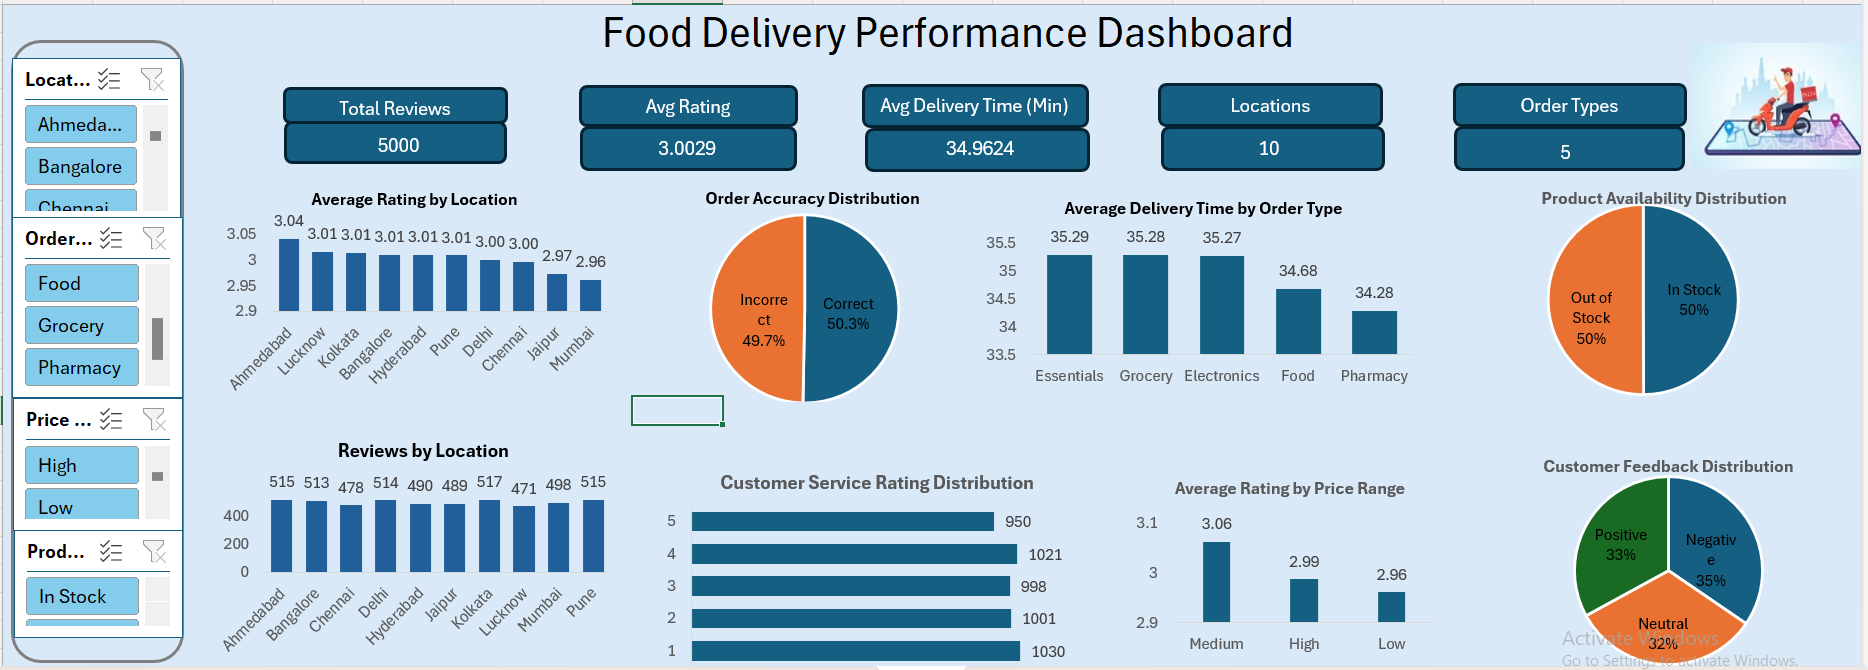

The page's visual inventory and layout, read from the dashboard file:
{"tool":"powerbi","page":{"name":"Page 1","canvas":[1280,720],"ordinal":0},"visuals":[{"type":"cardVisual","title":"Average Rating","fields":{"Data":["Avg(Fast Delivery Agent Reviews.Rating)"]},"box":[276.2,53.5,198.4,88.5],"z":0},{"type":"cardVisual","title":"Average Delivery Time","fields":{"Data":["Avg(Fast Delivery Agent Reviews.Delivery Time (min))"]},"box":[514.5,53.5,294.7,88.5],"z":1000},{"type":"cardVisual","title":"Average Customer Service Rating","fields":{"Data":["Avg(Fast Delivery Agent Reviews.Customer Service Rating)"]},"box":[849.1,53.5,334.6,88.5],"z":2000},{"type":"cardVisual","title":"Order Accuracy %","fields":{"Data":["Fast Delivery Agent Reviews.Order Accuracy %"]},"box":[8.8,148.8,227.6,88.5],"z":3000},{"type":"textbox","box":[0,0,1280,48],"z":4000},{"type":"cardVisual","title":"Negative Feedback %","fields":{"Data":["Fast Delivery Agent Reviews.Negative Feedback %"]},"box":[375.9,148.8,232.5,88.5],"z":5000},{"type":"cardVisual","title":"Out of Stock %","fields":{"Data":["Fast Delivery Agent Reviews.Out of Stock %"]},"box":[748,153.7,246.1,88.5],"z":6000},{"type":"hundredPercentStackedBarChart","fields":{"Category":["Fast Delivery Agent Reviews.Location"],"Y":["Avg(Fast Delivery Agent Reviews.Rating)"]},"box":[9.4,482.6,270.5,220.1],"z":7000},{"type":"barChart","fields":{"Category":["Fast Delivery Agent Reviews.Location"],"Y":["Avg(Fast Delivery Agent Reviews.Delivery Time (min))"]},"box":[9.4,242.2,243.2,234.4],"z":8000},{"type":"donutChart","fields":{"Category":["Fast Delivery Agent Reviews.Customer Feedback Type"],"Y":["CountNonNull(Fast Delivery Agent Reviews.Review Text)"]},"box":[281,242.4,299.9,224.4],"z":9000},{"type":"lineClusteredColumnComboChart","title":"Order Accuracy — Correct vs Incorrect","fields":{"Category":["Fast Delivery Agent Reviews.Order Accuracy"],"Y":["CountNonNull(Fast Delivery Agent Reviews.Review Text)"]},"box":[326.8,482.1,267.5,220.8],"z":10000},{"type":"clusteredBarChart","fields":{"Category":["Fast Delivery Agent Reviews.Location"],"Y":["CountNonNull(Fast Delivery Agent Reviews.Review Text)"]},"box":[648.2,248.7,345.6,218.2],"z":11000},{"type":"cardVisual","fields":{"Data":["CountNonNull(Fast Delivery Agent Reviews.Review Text)"]},"box":[8.8,53.5,227.6,88.5],"z":12000},{"type":"slicer","fields":{"Values":["Fast Delivery Agent Reviews.Location"]},"box":[1082.7,277.4,184,60.1],"z":13000},{"type":"slicer","fields":{"Values":["Fast Delivery Agent Reviews.Order Type"]},"box":[1082.7,218.2,184,59.3],"z":14000},{"type":"slicer","fields":{"Values":["Fast Delivery Agent Reviews.Price Range"]},"box":[1082.7,159.8,184,58.4],"z":15000},{"type":"clusteredBarChart","fields":{"Category":["Fast Delivery Agent Reviews.Location"],"Y":["Fast Delivery Agent Reviews.Negative Feedback %"]},"box":[620.5,482.4,346.3,219.8],"z":16000},{"type":"map","fields":{"Category":["Fast Delivery Agent Reviews.Location"],"Size":["Fast Delivery Agent Reviews.Review Count"]},"box":[1016.3,388.7,250.5,314.2],"z":17000},{"type":"image","box":[0,0,113.1,60.1],"z":18000}]}

Visuals, with their boxes on the page's 1280x720 design canvas (x1, y1, x2, y2). These are canvas units, not pixel positions in the 1868x670 screenshot, which may show the page scaled, cropped or inside an application window:
"Average Rating" cardVisual: BBox(276, 54, 475, 142)
"Average Delivery Time" cardVisual: BBox(514, 54, 809, 142)
"Average Customer Service Rating" cardVisual: BBox(849, 54, 1184, 142)
"Order Accuracy %" cardVisual: BBox(9, 149, 236, 237)
textbox: BBox(0, 0, 1280, 48)
"Negative Feedback %" cardVisual: BBox(376, 149, 608, 237)
"Out of Stock %" cardVisual: BBox(748, 154, 994, 242)
hundredPercentStackedBarChart - Fast Delivery Agent Reviews.Location x Avg(Fast Delivery Agent Reviews.Rating): BBox(9, 483, 280, 703)
barChart - Fast Delivery Agent Reviews.Location x Avg(Fast Delivery Agent Reviews.Delivery Time (min)): BBox(9, 242, 253, 477)
donutChart - Fast Delivery Agent Reviews.Customer Feedback Type x CountNonNull(Fast Delivery Agent Reviews.Review Text): BBox(281, 242, 581, 467)
"Order Accuracy — Correct vs Incorrect" lineClusteredColumnComboChart: BBox(327, 482, 594, 703)
clusteredBarChart - Fast Delivery Agent Reviews.Location x CountNonNull(Fast Delivery Agent Reviews.Review Text): BBox(648, 249, 994, 467)
cardVisual - CountNonNull(Fast Delivery Agent Reviews.Review Text): BBox(9, 54, 236, 142)
slicer - Fast Delivery Agent Reviews.Location: BBox(1083, 277, 1267, 338)
slicer - Fast Delivery Agent Reviews.Order Type: BBox(1083, 218, 1267, 278)
slicer - Fast Delivery Agent Reviews.Price Range: BBox(1083, 160, 1267, 218)
clusteredBarChart - Fast Delivery Agent Reviews.Location x Fast Delivery Agent Reviews.Negative Feedback %: BBox(620, 482, 967, 702)
map - Fast Delivery Agent Reviews.Location x Fast Delivery Agent Reviews.Review Count: BBox(1016, 389, 1267, 703)
image: BBox(0, 0, 113, 60)
